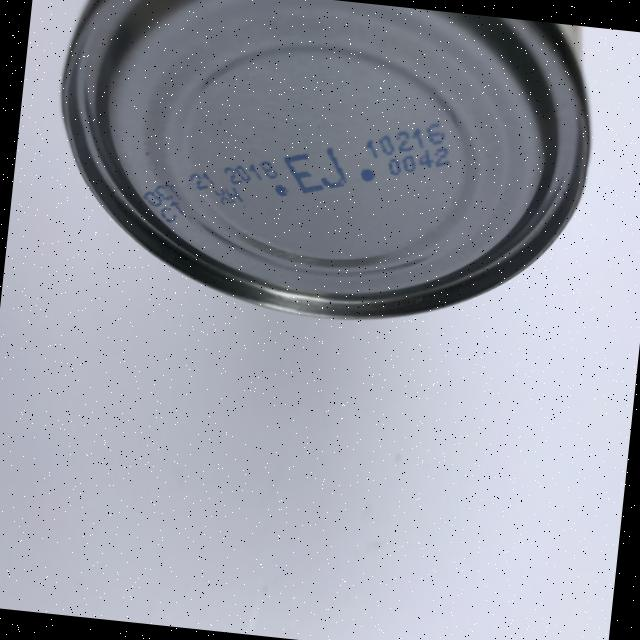metal: (39, 0, 603, 345)
